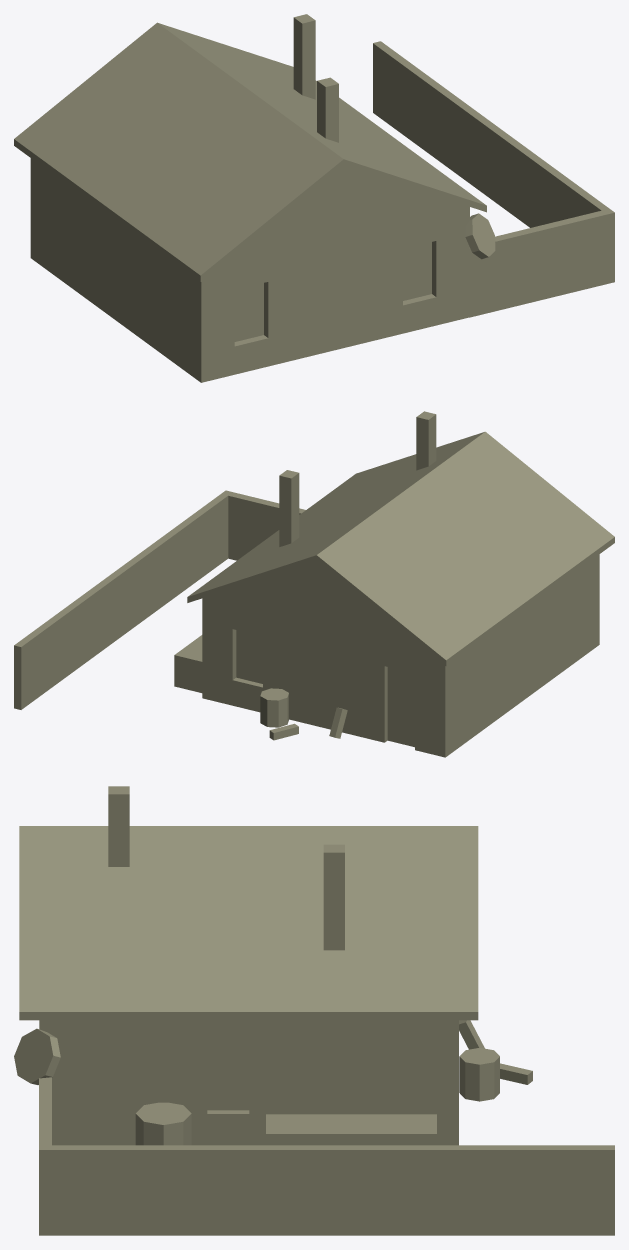
3 views of the same model, one above another, from view 1: azimuth 30°, elevation 25°; view 2: azimuth 150°, elevation 25°; view 3: azimuth 270°, elevation 25° (orthographic). The views are drawn at different scales.
Parts seen in each view (by area): view 1: pCube33; view 2: pCube33; view 3: pCube33.
Boxes of the visible parts, left/top/right/bottom form: pCube33: left=14, top=14, right=614, bottom=382; pCube33: left=14, top=411, right=614, bottom=757; pCube33: left=14, top=786, right=614, bottom=1235.
Size of the model in its own units: 19.83 by 10.84 by 19.87.
